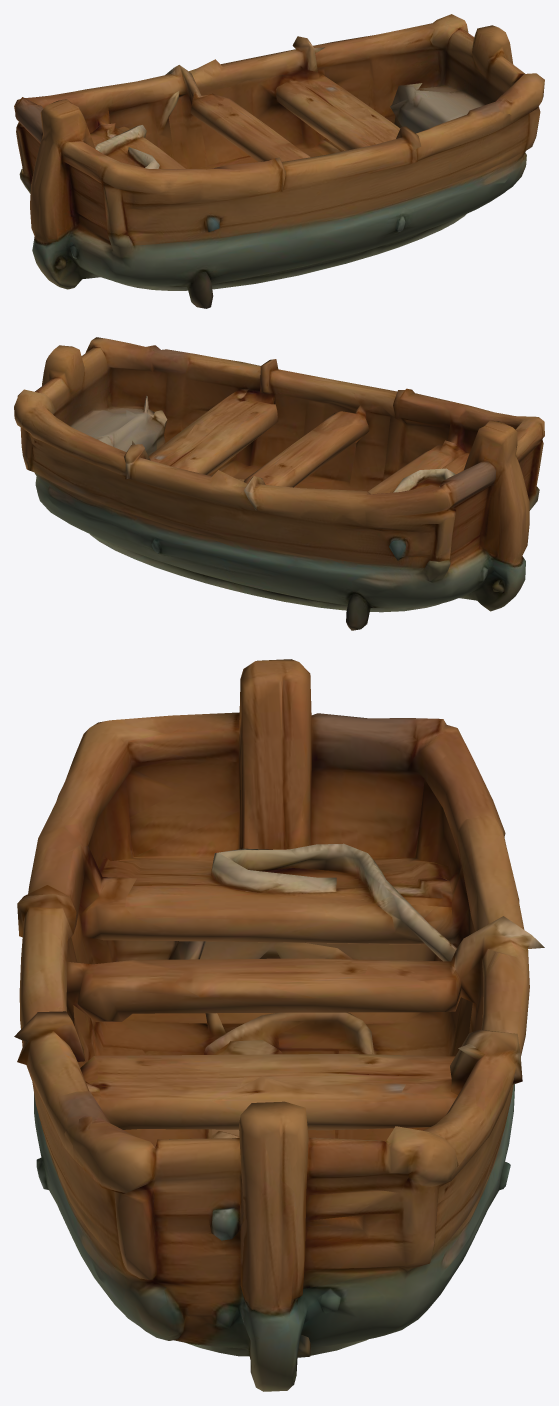
Rendered from lib-dinghy.glb.
3 renders of one model, top to bottom at view 1: azimuth 30°, elevation 25°; view 2: azimuth 150°, elevation 25°; view 3: azimuth 270°, elevation 25°, orthographic. The views are drawn at different scales.
Visible parts, largest first — view 1: tripo_node_2bb202dc-bfc0-499b-858e-ff12d7d37426; view 2: tripo_node_2bb202dc-bfc0-499b-858e-ff12d7d37426; view 3: tripo_node_2bb202dc-bfc0-499b-858e-ff12d7d37426.
Boxes of the visible parts, x1=… form: tripo_node_2bb202dc-bfc0-499b-858e-ff12d7d37426: x1=14, y1=14, x2=544, y2=308; tripo_node_2bb202dc-bfc0-499b-858e-ff12d7d37426: x1=14, y1=337, x2=544, y2=630; tripo_node_2bb202dc-bfc0-499b-858e-ff12d7d37426: x1=14, y1=659, x2=544, y2=1391.
Bounding box in the file's own units: 0.9992 × 0.3749 × 0.5233.
1 material, 1 textured.
